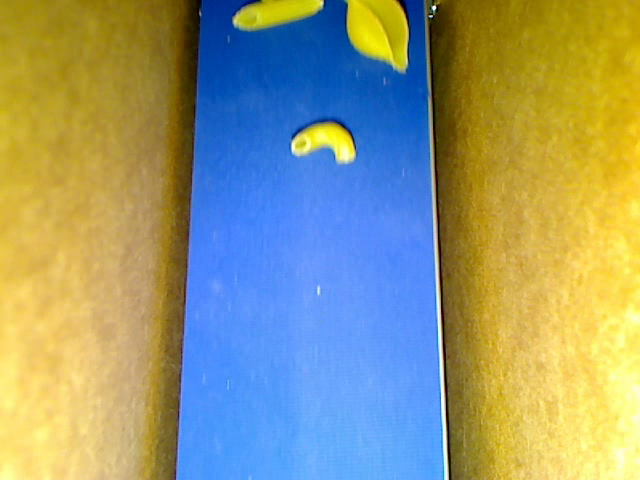elbow: (290, 120, 356, 165)
penne: (232, 1, 324, 31)
shell: (342, 1, 410, 72)
